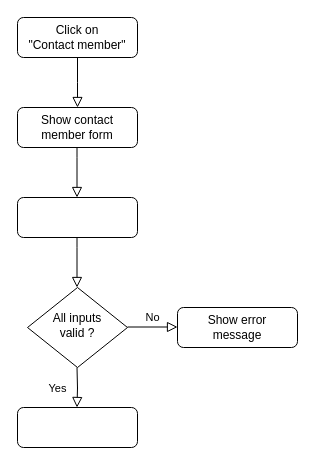
Image size: 315x465. Some labels were removed from this diagram. The shapes that lost their labels are listed below. From the top down, each one's box as (x1, y1, x2, y2) in pixels, then its label:
(16, 196, 138, 238): Click on send
(16, 406, 138, 448): Send email automatically
